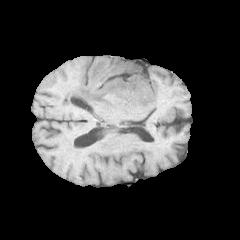glioma: (56, 59, 160, 111)
